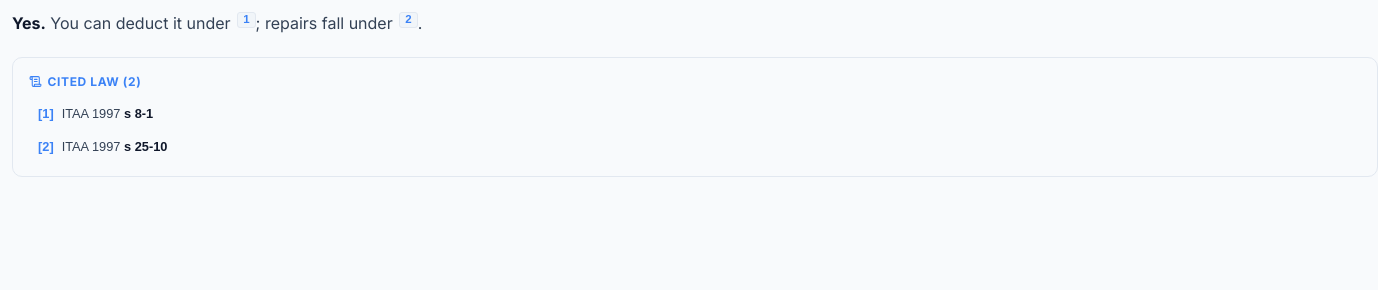
it: CitedAnswer › renders inline corpus markers and opens the quote panel on click (click-to-the-line)
The image size is (1378, 290).
Expected: the text "Yes." is shown, [12,13,46,33]
Expected: the text "Cited law (2)" is shown, [29,74,141,89]
// click the inline [1] superscript → the exact section text + a source link appear
What coordinates should you click on to do the following:
click the button titled "Show cited section [1]"
I would click on:
 (246, 20)
Its box is [237,12,256,28].
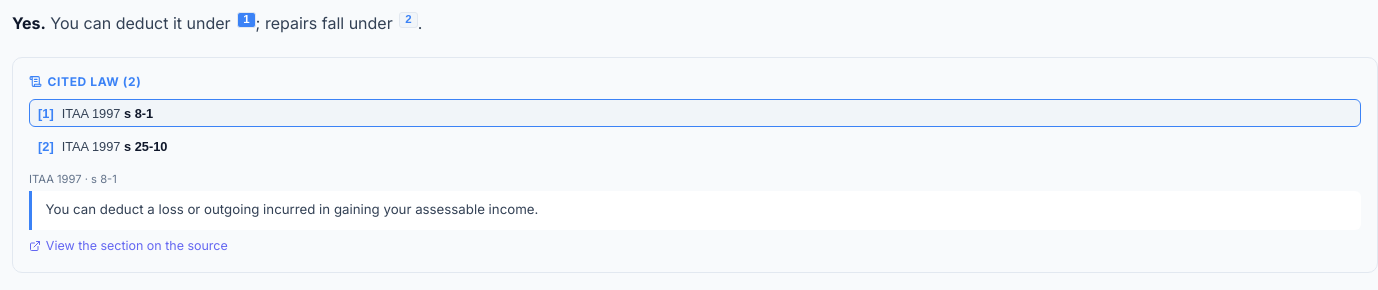
Result: the text "You can deduct a loss or outgoing" is shown at [46,202,538,218]
